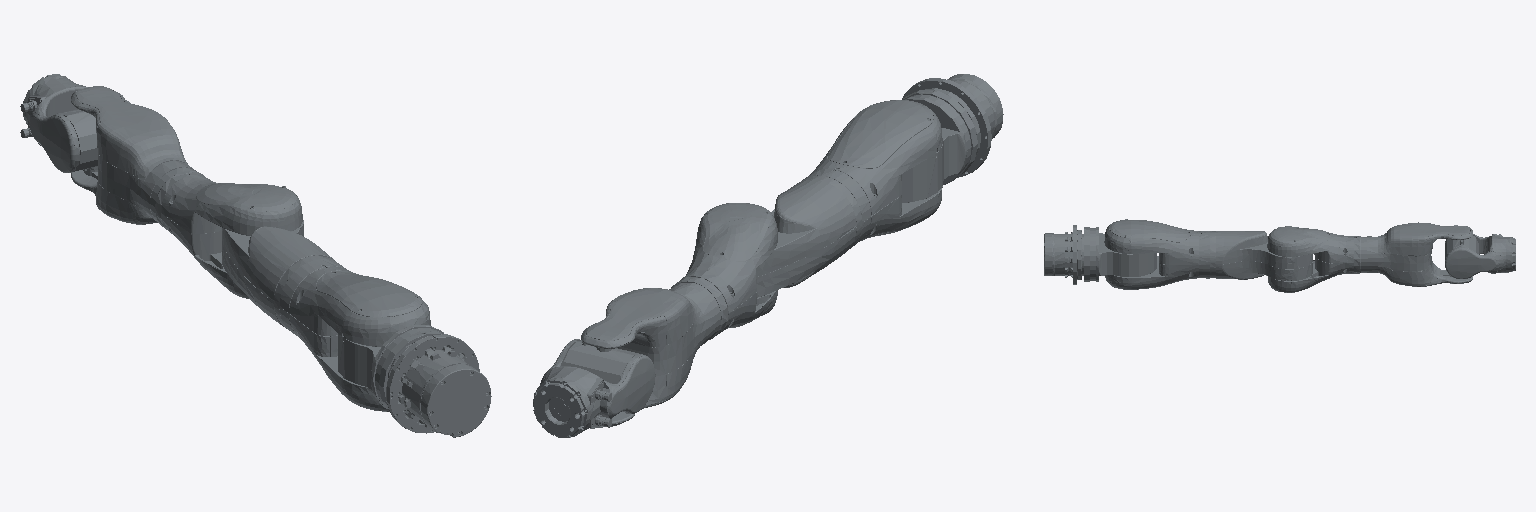
robot.urdf — sr_br_r73:
<?xml version="1.0" encoding="utf-8"?>
<!-- This URDF was automatically created by TianGong URDF Exporter! -->
<robot
  name="sr_br_r73">
  <link
    name="base_link">
    <inertial>
      <origin
        xyz="-0.0001984 0.0040003 7.0325E-05"
        rpy="0 0 0" />
      <mass
        value="0.084989" />
      <inertia
        ixx="0.00010929"
        ixy="-4.4652E-10"
        ixz="1.2315E-07"
        iyy="0.00021825"
        iyz="4.2535E-09"
        izz="0.00010986" />
    </inertial>
    <visual>
      <origin
        xyz="0 0 0"
        rpy="0 0 0" />
      <geometry>
        <mesh
          filename="../meshes/base_link.STL" />
      </geometry>
      <material
        name="6061-T6">
        <color
          rgba="0.50698 0.53156 0.55 1" />
      </material>
    </visual>
    <collision>
      <origin
        xyz="0 0 0"
        rpy="0 0 0" />
      <geometry>
        <mesh
          filename="../meshes/base_link.STL" />
      </geometry>
    </collision>
  </link>
  <link
    name="Link_0">
    <inertial>
      <origin
        xyz="4.6978E-05 -5.896E-05 -0.012502"
        rpy="0 0 0" />
      <mass
        value="1.4075" />
      <inertia
        ixx="0.0017145"
        ixy="-9.6642E-07"
        ixz="2.1318E-06"
        iyy="0.0017149"
        iyz="-4.0027E-06"
        izz="0.0012058" />
    </inertial>
    <visual>
      <origin
        xyz="3.2072E-15 2.0583E-15 -0.008"
        rpy="1.5708 0 0" />
      <geometry>
        <mesh
          filename="../meshes/Link_0.STL" />
      </geometry>
      <material
        name="6061-T6">
        <color
          rgba="0.50698 0.53156 0.55 1" />
      </material>
    </visual>
    <collision>
      <origin
        xyz="3.20723242010451E-15 2.05829075075838E-15 -0.00800000000000002"
        rpy="1.5707963267949 0 0" />
      <geometry>
        <mesh
          filename="../meshes/Link_0.STL" />
      </geometry>
    </collision>
  </link>
  <joint
    name="joint0"
    type="fixed">
    <origin
      xyz="0 0.008 0"
      rpy="-1.5708 0 0" />
    <parent
      link="base_link" />
    <child
      link="Link_0" />
    <axis
      xyz="0 0 0" />
  </joint>
  <link
    name="Link_1">
    <inertial>
      <origin
        xyz="2.5808E-06 2.6235E-06 -0.01725"
        rpy="0 0 0" />
      <mass
        value="1.473" />
      <inertia
        ixx="0.0022963"
        ixy="4.2121E-08"
        ixz="1.9821E-08"
        iyy="0.0028896"
        iyz="1.5814E-07"
        izz="0.0014782" />
    </inertial>
    <visual>
      <origin
        xyz="7.4413E-18 -3.4386E-17 -0.11"
        rpy="1.5708 0 0" />
      <geometry>
        <mesh
          filename="../meshes/Link_1.STL" />
      </geometry>
      <material
        name="6061-T6">
        <color
          rgba="0.50698 0.53156 0.55 1" />
      </material>
    </visual>
    <collision>
      <origin
        xyz="7.44125394484295E-18 -3.43857153657403E-17 -0.109999999999999"
        rpy="1.5707963267949 0 0" />
      <geometry>
        <mesh
          filename="../meshes/Link_1.STL" />
      </geometry>
    </collision>
  </link>
  <joint
    name="joint1"
    type="revolute">
    <origin
      xyz="0 0 0.102"
      rpy="0 0 0" />
    <parent
      link="Link_0" />
    <child
      link="Link_1" />
    <axis
      xyz="0 0 1" />
    <limit
      lower="-3.05"
      upper="3.05"
      effort="100"
      velocity="3.14" />
  </joint>
  <link
    name="Link_2">
    <inertial>
      <origin
        xyz="-2.541E-06 -0.045267 4.8255E-05"
        rpy="0 0 0" />
      <mass
        value="3.0276" />
      <inertia
        ixx="0.010783"
        ixy="-2.5972E-06"
        ixz="4.4984E-06"
        iyy="0.0054116"
        iyz="-5.282E-05"
        izz="0.0089381" />
    </inertial>
    <visual>
      <origin
        xyz="7.4413E-18 0.11 -4.1121E-17"
        rpy="3.1416 0 0" />
      <geometry>
        <mesh
          filename="../meshes/Link_2.STL" />
      </geometry>
      <material
        name="6061-T6">
        <color
          rgba="0.50698 0.53156 0.55 1" />
      </material>
    </visual>
    <collision>
      <origin
        xyz="7.44125394484295E-18 0.109999999999999 -4.11210503117633E-17"
        rpy="3.14159265358979 0 0" />
      <geometry>
        <mesh
          filename="../meshes/Link_2.STL" />
      </geometry>
    </collision>
  </link>
  <joint
    name="joint2"
    type="revolute">
    <origin
      xyz="0 0 0"
      rpy="-1.5708 0 0" />
    <parent
      link="Link_1" />
    <child
      link="Link_2" />
    <axis
      xyz="0 0 1" />
    <limit
      lower="-1.74"
      upper="1.74"
      effort="100"
      velocity="3.14" />
  </joint>
  <link
    name="Link_3">
    <inertial>
      <origin
        xyz="0.0045957 -7.1158E-07 -0.078573"
        rpy="0 0 0" />
      <mass
        value="2.9789" />
      <inertia
        ixx="0.012126"
        ixy="-2.198E-07"
        ixz="-0.0013926"
        iyy="0.012602"
        iyz="1.9196E-07"
        izz="0.0030018" />
    </inertial>
    <visual>
      <origin
        xyz="-2.0644E-13 -6.6565E-13 -0.4135"
        rpy="1.5708 0 0" />
      <geometry>
        <mesh
          filename="../meshes/Link_3.STL" />
      </geometry>
      <material
        name="6061-T6">
        <color
          rgba="0.50698 0.53156 0.55 1" />
      </material>
    </visual>
    <collision>
      <origin
        xyz="-2.06444690739149E-13 -6.6564565536257E-13 -0.413500000000155"
        rpy="1.5707963267949 0 0" />
      <geometry>
        <mesh
          filename="../meshes/Link_3.STL" />
      </geometry>
    </collision>
  </link>
  <joint
    name="joint3"
    type="revolute">
    <origin
      xyz="0 -0.3035 0"
      rpy="1.5708 0 0" />
    <parent
      link="Link_2" />
    <child
      link="Link_3" />
    <axis
      xyz="0 0 1" />
    <limit
      lower="-3.05"
      upper="3.05"
      effort="50"
      velocity="3.14" />
  </joint>
  <link
    name="Link_4">
    <inertial>
      <origin
        xyz="-0.013473 -0.048993 0.0051255"
        rpy="0 0 0" />
      <mass
        value="0.92829" />
      <inertia
        ixx="0.0027608"
        ixy="-0.00038461"
        ixz="-6.2678E-05"
        iyy="0.0013323"
        iyz="-0.00023988"
        izz="0.0023796" />
    </inertial>
    <visual>
      <origin
        xyz="-0.0225 0.4135 -5.5697E-12"
        rpy="3.1416 0 0" />
      <geometry>
        <mesh
          filename="../meshes/Link_4.STL" />
      </geometry>
      <material
        name="6061-T6">
        <color
          rgba="0.50698 0.53156 0.55 1" />
      </material>
    </visual>
    <collision>
      <origin
        xyz="-0.0225000000001834 0.413500000000135 -5.56966485174633E-12"
        rpy="3.14159265358979 0 0" />
      <geometry>
        <mesh
          filename="../meshes/Link_4.STL" />
      </geometry>
    </collision>
  </link>
  <joint
    name="joint4"
    type="revolute">
    <origin
      xyz="0.0225 0 0"
      rpy="-1.5708 0 0" />
    <parent
      link="Link_3" />
    <child
      link="Link_4" />
    <axis
      xyz="0 0 1" />
    <limit
      lower="-1.13"
      upper="2.7"
      effort="50"
      velocity="3.14" />
  </joint>
  <link
    name="Link_5">
    <inertial>
      <origin
        xyz="-6.0171E-05 0.0001584 -0.11181"
        rpy="0 0 0" />
      <mass
        value="2.5833" />
      <inertia
        ixx="0.0079147"
        ixy="-5.8532E-06"
        ixz="9.442E-06"
        iyy="0.0067631"
        iyz="-2.7177E-05"
        izz="0.0031713" />
    </inertial>
    <visual>
      <origin
        xyz="-1.0621E-12 -1.6709E-10 -0.74"
        rpy="1.5708 0 0" />
      <geometry>
        <mesh
          filename="../meshes/Link_5.STL" />
      </geometry>
      <material
        name="6061-T6">
        <color
          rgba="0.50698 0.53156 0.55 1" />
      </material>
    </visual>
    <collision>
      <origin
        xyz="-1.06207872900034E-12 -1.67087500293497E-10 -0.740000000000189"
        rpy="1.5707963267949 0 0" />
      <geometry>
        <mesh
          filename="../meshes/Link_5.STL" />
      </geometry>
    </collision>
  </link>
  <joint
    name="joint5"
    type="revolute">
    <origin
      xyz="-0.0225 -0.3265 0"
      rpy="1.5708 0 0" />
    <parent
      link="Link_4" />
    <child
      link="Link_5" />
    <axis
      xyz="0 0 1" />
    <limit
      lower="-3.05"
      upper="3.05"
      effort="20"
      velocity="5.23" />
  </joint>
  <link
    name="Link_6">
    <inertial>
      <origin
        xyz="9.2454E-08 6.8948E-05 0.00011233"
        rpy="0 0 0" />
      <mass
        value="0.67246" />
      <inertia
        ixx="0.0004782"
        ixy="-3.7059E-10"
        ixz="-1.8012E-09"
        iyy="0.00037075"
        iyz="4.232E-07"
        izz="0.00047061" />
    </inertial>
    <visual>
      <origin
        xyz="-0.74 -1.062E-12 4.0068E-12"
        rpy="3.1416 -7.3675E-33 1.5708" />
      <geometry>
        <mesh
          filename="../meshes/Link_6.STL" />
      </geometry>
      <material
        name="6061-T6">
        <color
          rgba="0.50698 0.53156 0.55 1" />
      </material>
    </visual>
    <collision>
      <origin
        xyz="-0.740000000000192 -1.06197546260588E-12 4.00681529730447E-12"
        rpy="3.14159265358979 -7.36746814912829E-33 1.5707963267949" />
      <geometry>
        <mesh
          filename="../meshes/Link_6.STL" />
      </geometry>
    </collision>
  </link>
  <joint
    name="joint6"
    type="revolute">
    <origin
      xyz="0 0 0"
      rpy="-1.5708 -1.5708 0" />
    <parent
      link="Link_5" />
    <child
      link="Link_6" />
    <axis
      xyz="0 0 1" />
    <limit
      lower="-1.05"
      upper="1.05"
      effort="20"
      velocity="5.23" />
  </joint>
  <link
    name="Link_7">
    <inertial>
      <origin
        xyz="0.055982 -2.8697E-05 1.1566E-05"
        rpy="0 0 0" />
      <mass
        value="0.71701" />
      <inertia
        ixx="0.00077065"
        ixy="3.1342E-07"
        ixz="8.5013E-06"
        iyy="0.0014176"
        iyz="-6.3247E-07"
        izz="0.0010312" />
    </inertial>
    <visual>
      <origin
        xyz="-0.74 1.6709E-10 -1.0622E-12"
        rpy="-1.5708 -1.5708 0" />
      <geometry>
        <mesh
          filename="../meshes/Link_7.STL" />
      </geometry>
      <material
        name="6061-T6">
        <color
          rgba="0.50698 0.53156 0.55 1" />
      </material>
    </visual>
    <collision>
      <origin
        xyz="-0.740000000000189 1.67087545606929E-10 -1.06219773157288E-12"
        rpy="-1.5707963267949 -1.5707963267949 0" />
      <geometry>
        <mesh
          filename="../meshes/Link_7.STL" />
      </geometry>
    </collision>
  </link>
  <joint
    name="joint7"
    type="revolute">
    <origin
      xyz="0 0 0"
      rpy="-1.5708 0 0" />
    <parent
      link="Link_6" />
    <child
      link="Link_7" />
    <axis
      xyz="0 0 1" />
    <limit
      lower="-1.57"
      upper="1.57"
      effort="20"
      velocity="5.23" />
  </joint>
</robot>

--- Facts derived from the render (not from the file) ---
Views: 3 orthographic renders of the robot side by side, from view 1: azimuth 30°, elevation 25°; view 2: azimuth 150°, elevation 25°; view 3: azimuth 270°, elevation 25°.
Model sr_br_r73 with 9 links and 8 joints (7 revolute, 1 fixed), rooted at base_link, posed every joint at zero.
Visible links, largest first — view 1: Link_5, Link_2, Link_4, Link_3, Link_0, Link_7, Link_1, base_link, Link_6; view 2: Link_5, Link_2, Link_3, Link_4, Link_7, Link_1, Link_6, Link_0, base_link; view 3: Link_5, Link_2, Link_3, Link_4, Link_7, Link_1, Link_0.
Link boxes in pixels (left/top/right/bottom): Link_5: left=71, top=86, right=204, bottom=229; Link_2: left=289, top=266, right=430, bottom=411; Link_4: left=161, top=175, right=302, bottom=298; Link_3: left=222, top=220, right=345, bottom=335; Link_0: left=388, top=344, right=491, bottom=437; Link_7: left=20, top=74, right=129, bottom=172; Link_1: left=338, top=325, right=443, bottom=409; base_link: left=386, top=334, right=479, bottom=433; Link_6: left=60, top=109, right=97, bottom=171; Link_5: left=581, top=277, right=727, bottom=426; Link_2: left=810, top=100, right=942, bottom=240; Link_3: left=756, top=169, right=871, bottom=297; Link_4: left=680, top=203, right=777, bottom=333; Link_7: left=533, top=339, right=655, bottom=437; Link_1: left=902, top=90, right=977, bottom=202; Link_6: left=563, top=340, right=638, bottom=411; Link_0: left=925, top=74, right=1003, bottom=155; base_link: left=902, top=78, right=991, bottom=177; Link_5: left=1354, top=222, right=1472, bottom=286; Link_2: left=1104, top=219, right=1198, bottom=289; Link_3: left=1199, top=231, right=1312, bottom=280; Link_4: left=1267, top=226, right=1353, bottom=292; Link_7: left=1445, top=234, right=1515, bottom=278; Link_1: left=1084, top=227, right=1156, bottom=281; Link_0: left=1044, top=230, right=1083, bottom=279.
Bounding box of the posed robot: 0.1236 × 0.8965 × 0.1254 m (x, y, z).
9 mesh visuals loaded from 9 distinct referenced files (9 binary STL).
